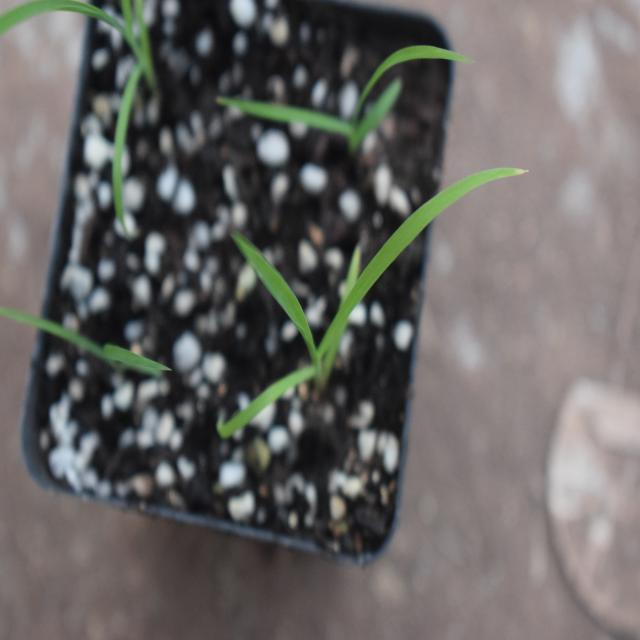barnyard_grass: (191, 140, 536, 420)
